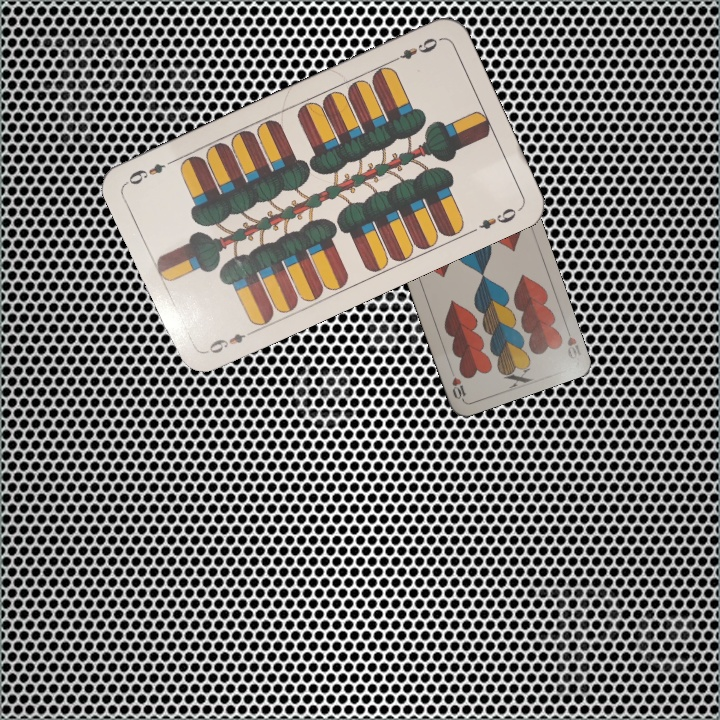E9: (387, 33, 443, 66), (201, 329, 248, 356)
H10: (561, 321, 584, 362)
